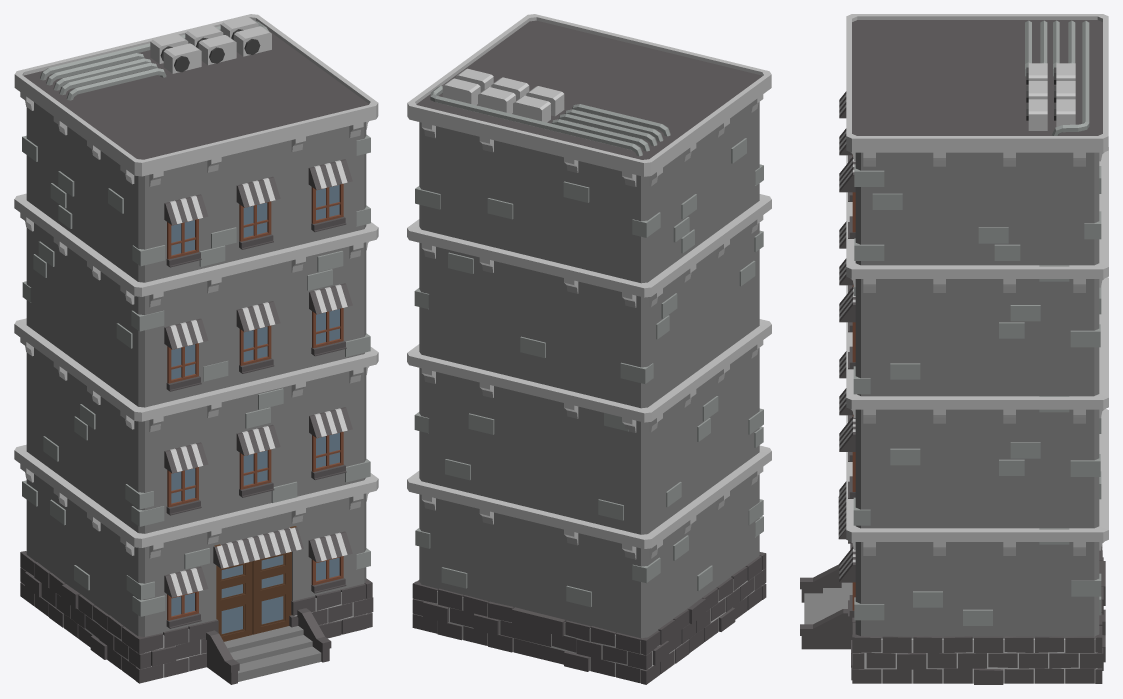
Rendered from 4Story.obj.
The picture shows the model from 3 angles, left to right: view 1: azimuth 30°, elevation 25°; view 2: azimuth 150°, elevation 25°; view 3: azimuth 270°, elevation 25°; orthographic projection. The views are drawn at different scales.
Parts seen in each view (by area): view 1: 4Story; view 2: 4Story; view 3: 4Story.
Boxes of the visible parts, box(x1,y1,x2,y2) form: 4Story: box(14, 14, 378, 684); 4Story: box(407, 14, 771, 684); 4Story: box(800, 14, 1108, 684).
Size of the model in its own units: 2.42 by 5.09 by 2.53.
